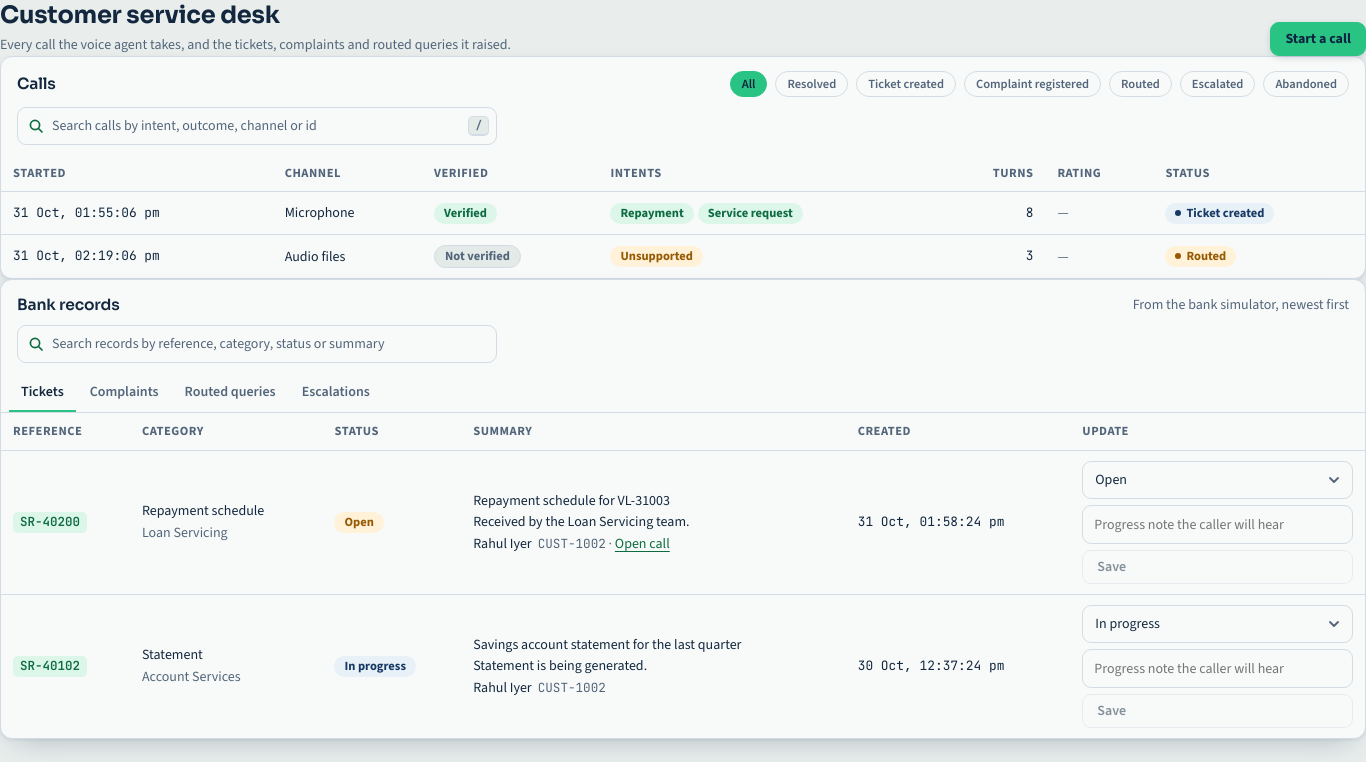
Test: SupportDesk › renders each records tab from listRecords
expect the text "SR-40200" is shown: met, box [13,512,87,533]
Click the tab "Complaints".
click(124, 393)  # box [78,373,171,412]
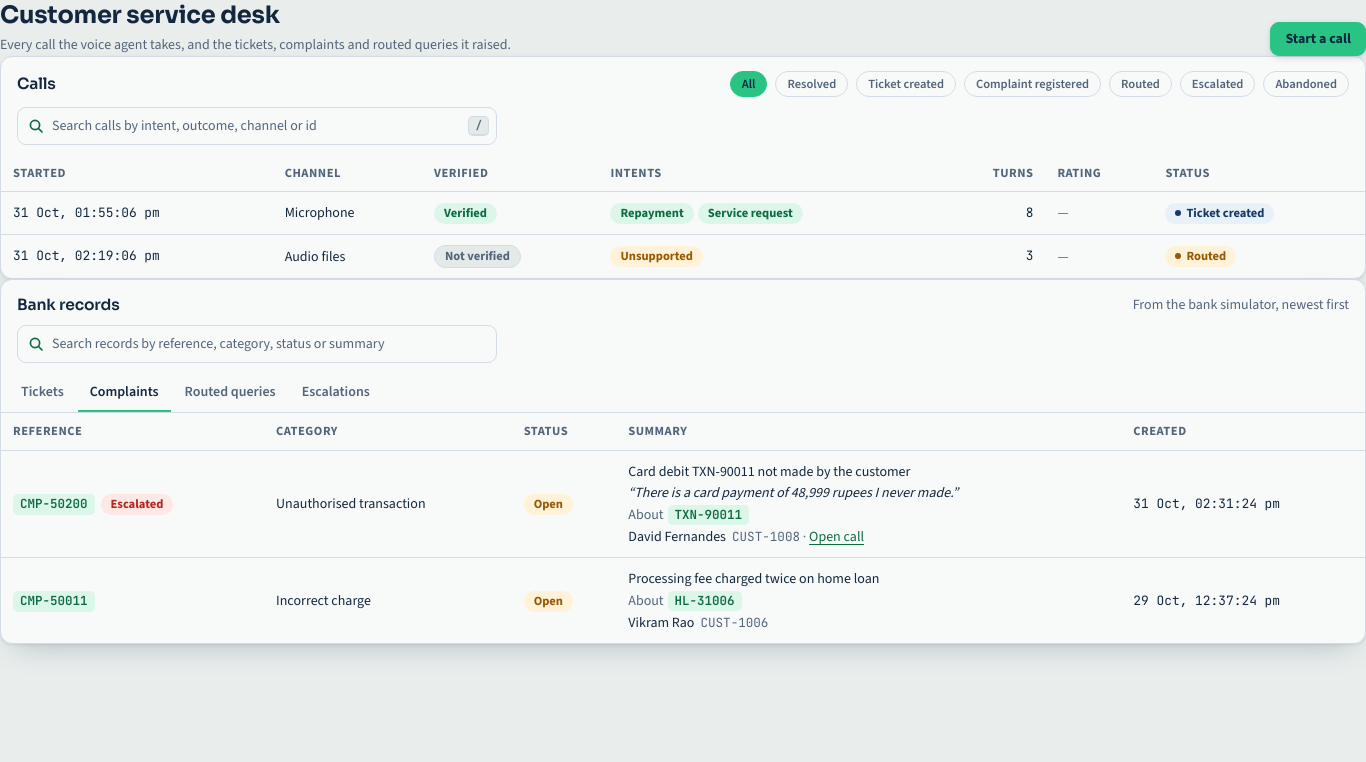
expect the text "CMP-50200" is shown: met, box [13,494,94,515]
expect the text "Escalated" is shown: met, box [100,494,173,515]
Click the tab "Routed queries".
click(230, 393)  # box [173,373,288,412]
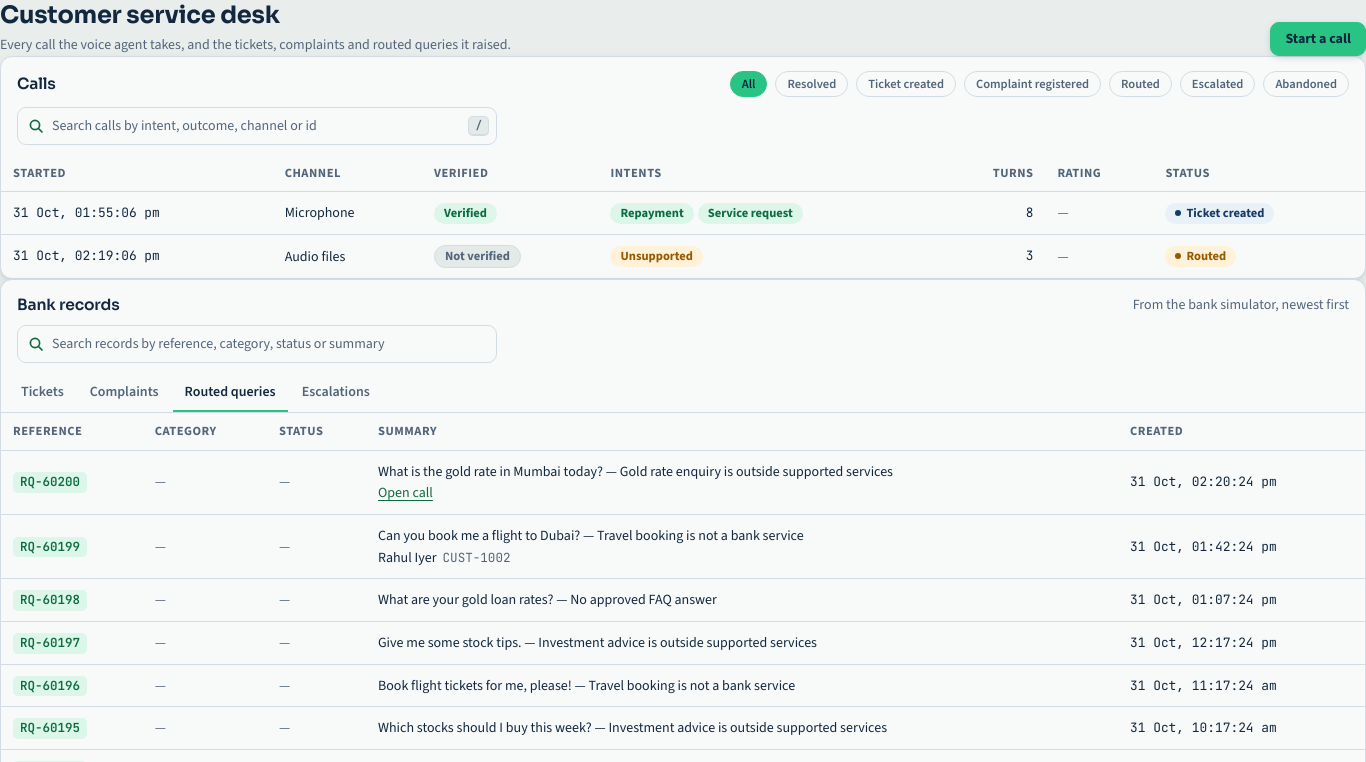
expect the text "RQ-60200" is shown: met, box [13,472,87,493]
expect the text "gold rate in Mumbai" is shown: met, box [378,462,893,481]
Click the tab "Escalations".
click(336, 393)  # box [290,373,382,412]
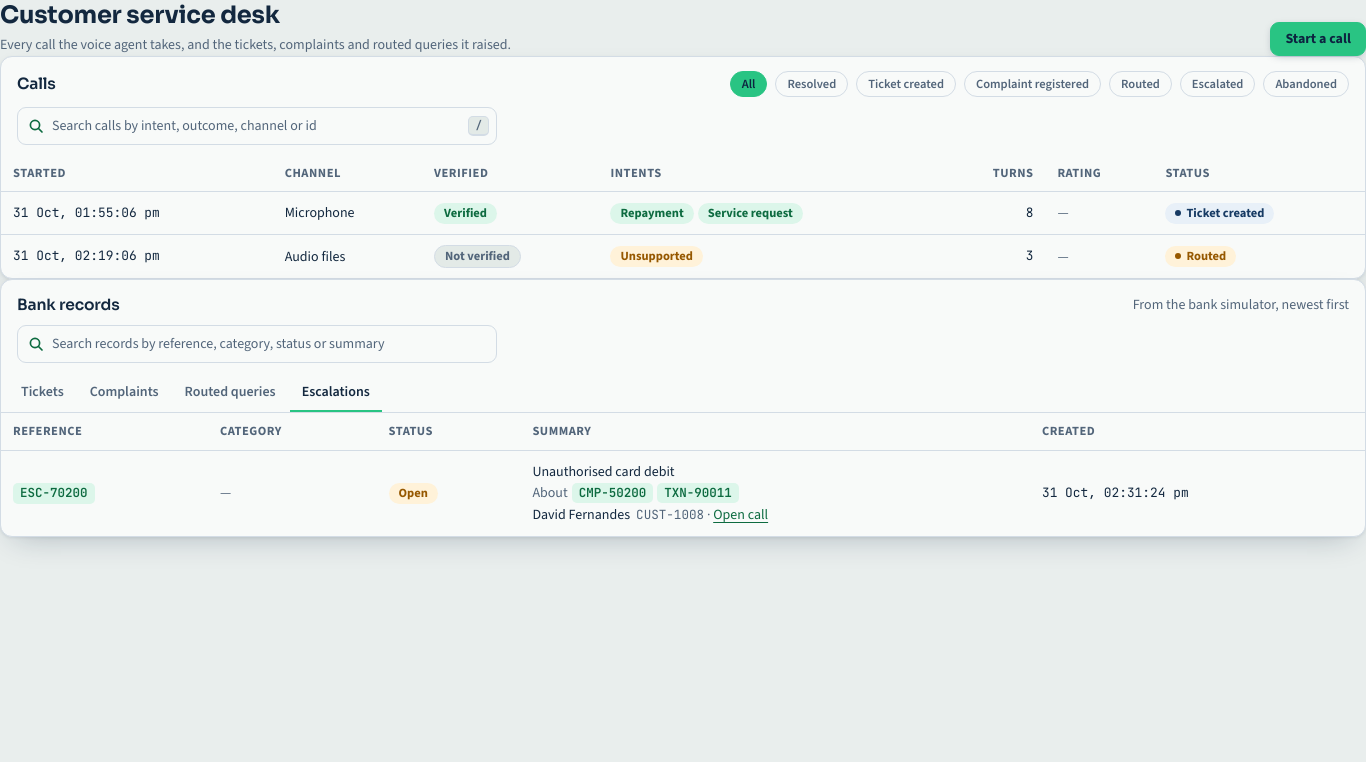
expect the text "ESC-70200" is shown: met, box [13,483,94,504]
